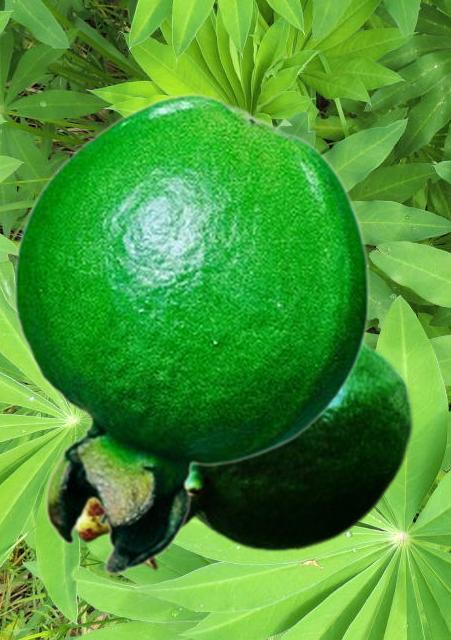guava: (12, 93, 370, 574), (76, 340, 413, 570)
